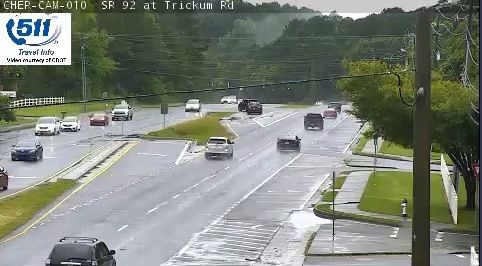car: (45, 237, 117, 266), (205, 137, 233, 157), (276, 135, 300, 150), (303, 112, 323, 129)
